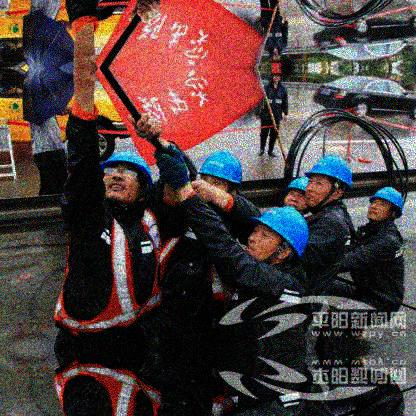helmet: (245, 207, 309, 266), (100, 150, 155, 207), (306, 155, 353, 208), (197, 153, 242, 194), (367, 187, 406, 223), (282, 175, 308, 212), (271, 68, 282, 83), (272, 54, 283, 67)
